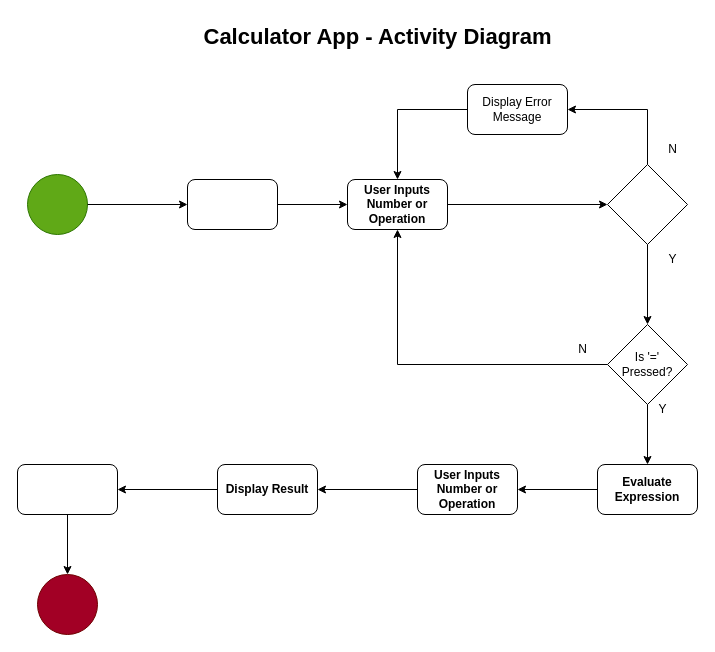
Image size: 715x652. Some labels were removed from this diagram. The box of each missing label's shape, as (x1, y1, x2, y2) in pixels:
Clear Display or Start New Calculation: (16, 464, 118, 514)
Launch Calculator App: (186, 178, 278, 230)
Valid Input?: (606, 164, 688, 244)
